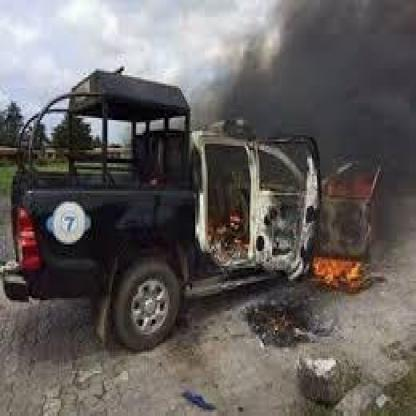fire: (313, 237, 375, 288)
smoke: (230, 0, 413, 165)
